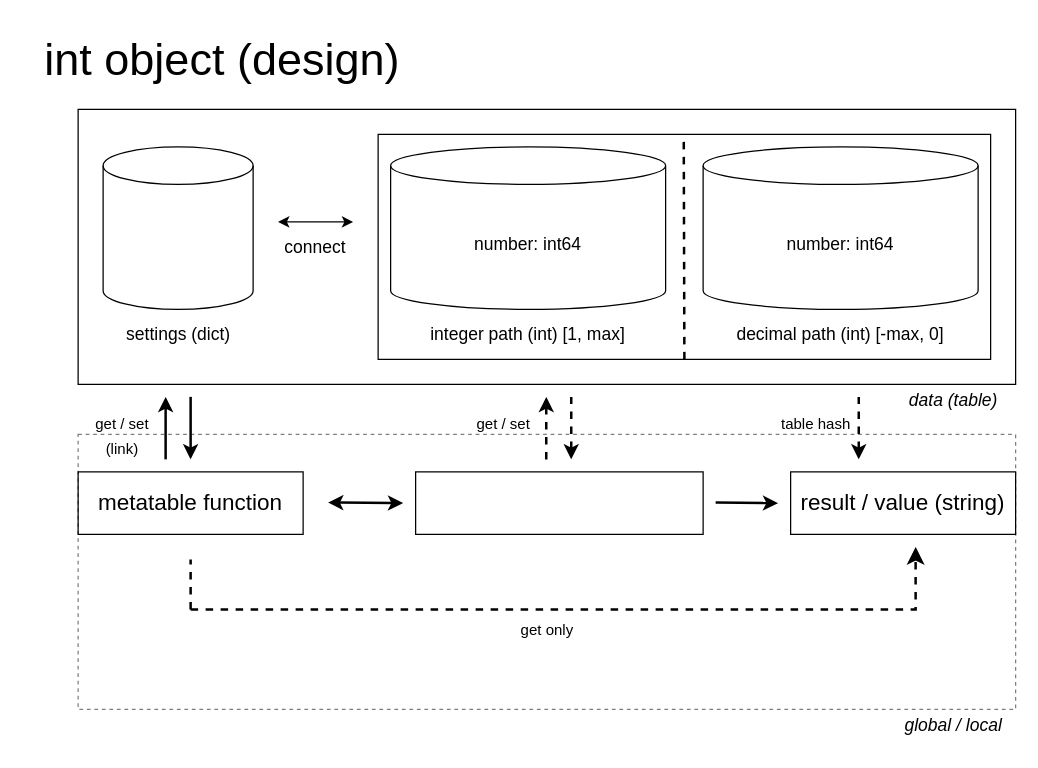
Some shapes in this 1038 by 768 pixel diagram are drawn without their labels. The shapes that lost their labels are listed below. From the top down, each one's box as (x1, y1, x2, y2) in pixels, then its label:
(102, 146, 253, 309): decimal digit (length) size per block (length) sign (boolen)
(414, 471, 703, 534): global / local (function)
